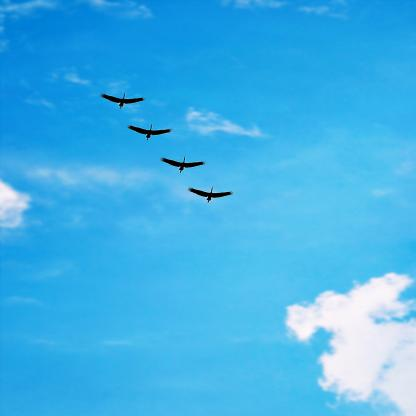bird: (161, 155, 206, 174), (127, 123, 174, 141), (100, 91, 146, 109), (188, 186, 233, 203)
